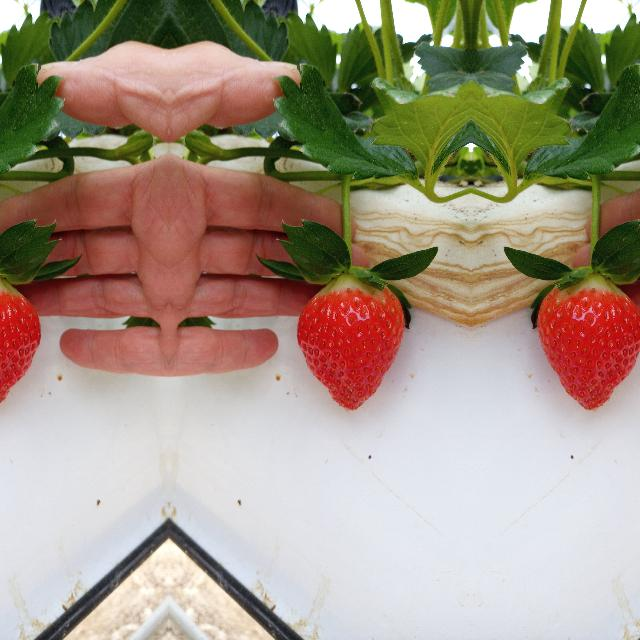Health_100: (296, 273, 404, 411), (537, 273, 640, 411), (0, 273, 40, 411)
